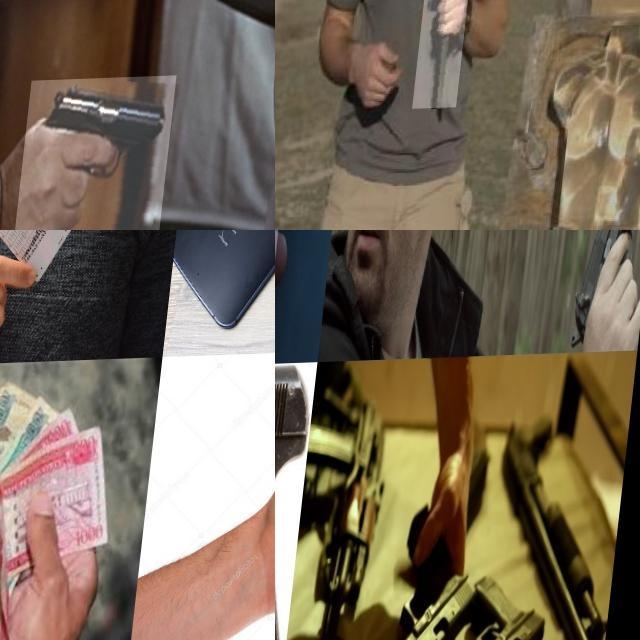-: (423, 0, 479, 111)
gun-knife-thesis - v11 Yolov5 augmented: (275, 365, 419, 640), (501, 400, 627, 640), (20, 77, 182, 230), (317, 410, 396, 608), (275, 230, 352, 387), (570, 230, 640, 356), (413, 578, 555, 640)
